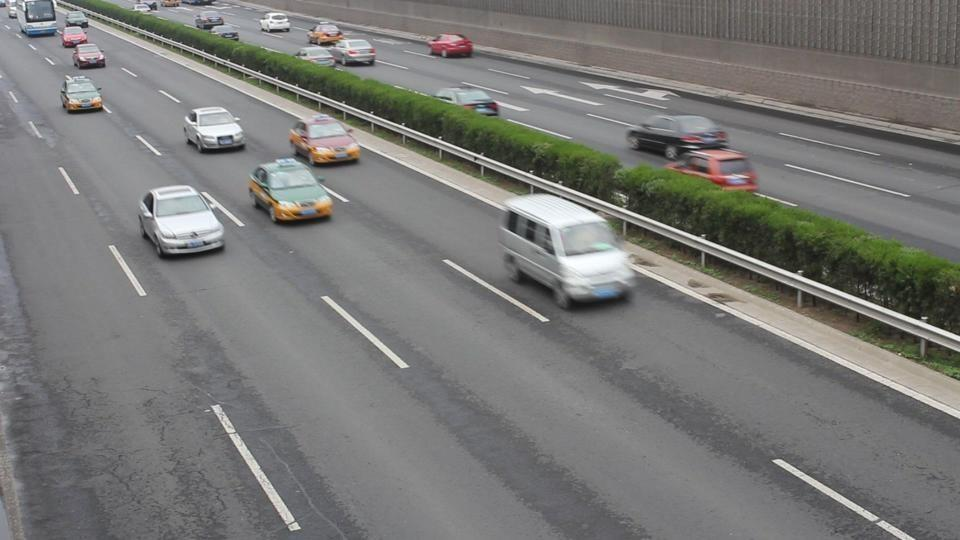car: (496, 193, 637, 309), (137, 185, 226, 258), (246, 157, 334, 223), (625, 114, 730, 160), (669, 148, 761, 192), (288, 114, 361, 165), (182, 107, 246, 153), (434, 84, 501, 118), (59, 74, 105, 113), (329, 38, 378, 67), (427, 32, 474, 58), (71, 43, 108, 69), (61, 23, 89, 49)
